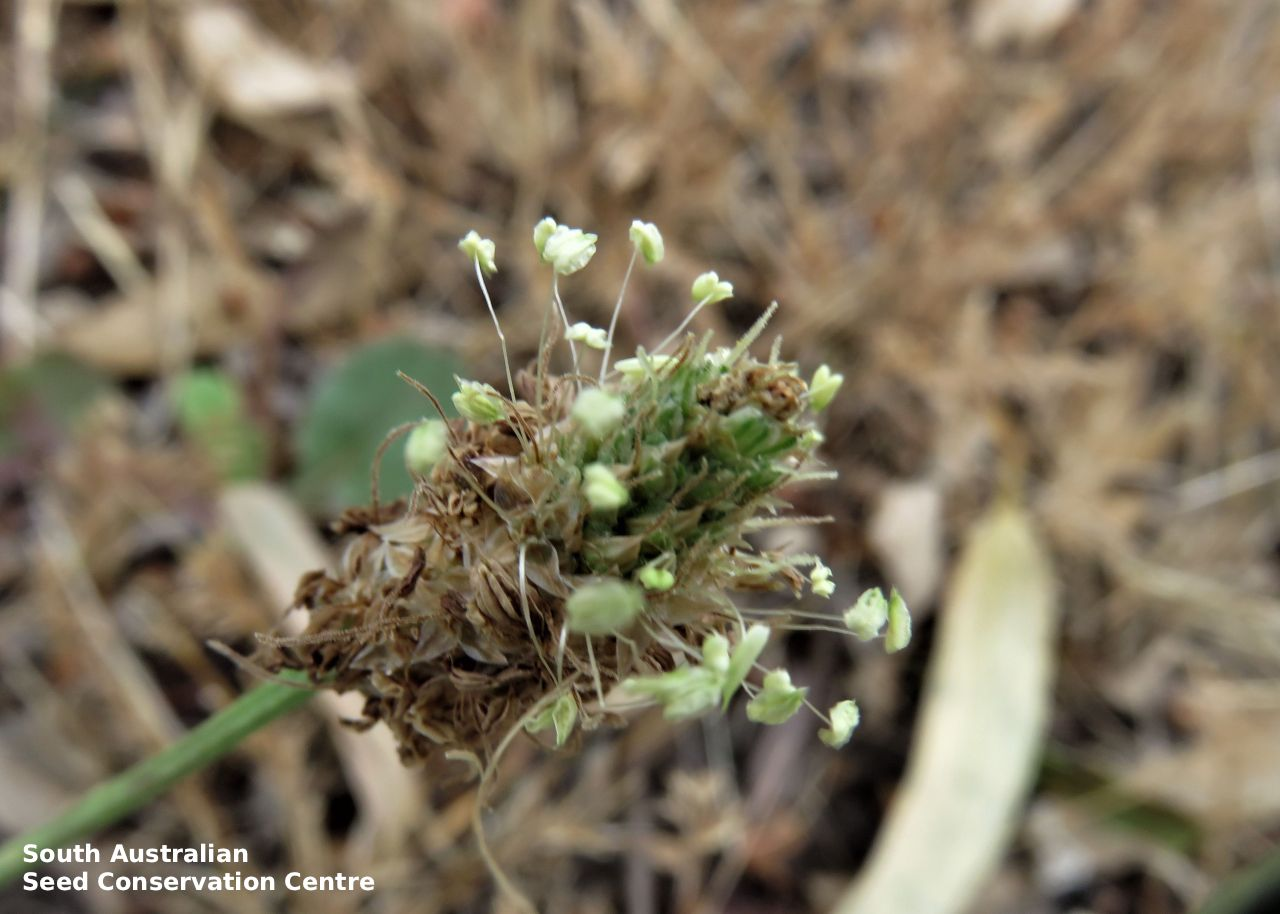buckhorn plantain: (242, 219, 880, 819)
